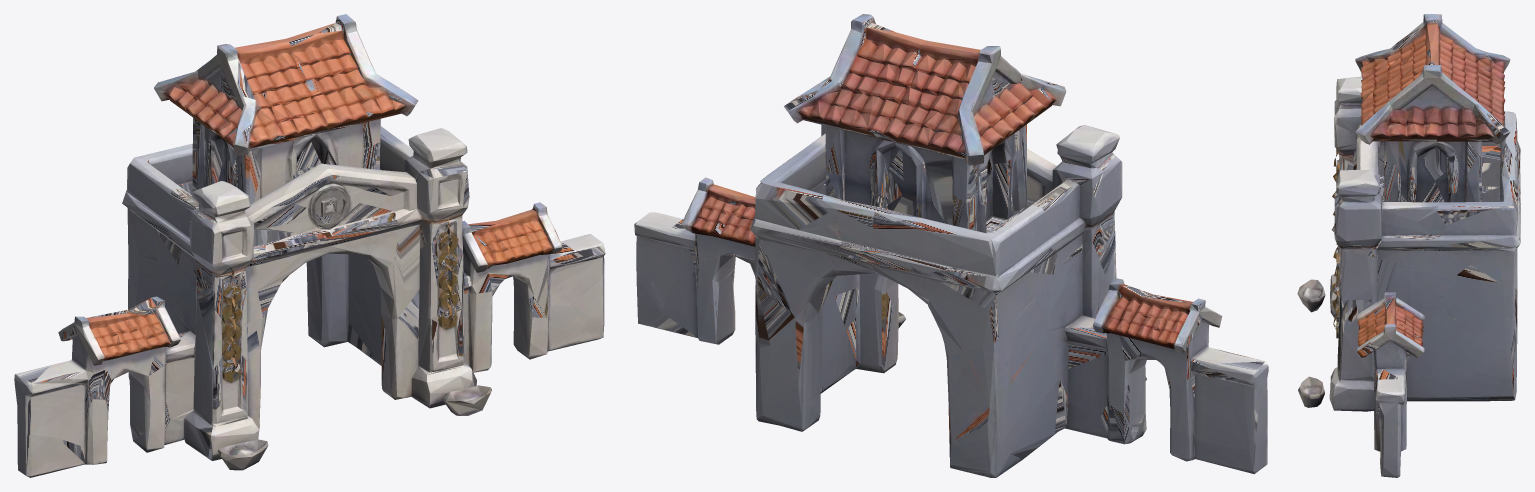
Rendered from cong-lang-bac-xa.48552f88.glb.
3 views of the same model, side by side, from view 1: azimuth 30°, elevation 25°; view 2: azimuth 150°, elevation 25°; view 3: azimuth 270°, elevation 25° (orthographic). The views are drawn at different scales.
Parts seen in each view (by area): view 1: tripo_node_dccabd12-5fb9-401d-8ad4-54225830297c; view 2: tripo_node_dccabd12-5fb9-401d-8ad4-54225830297c; view 3: tripo_node_dccabd12-5fb9-401d-8ad4-54225830297c.
Boxes of the visible parts, x1,y1,x2,y2 form: tripo_node_dccabd12-5fb9-401d-8ad4-54225830297c: (14, 14, 605, 477); tripo_node_dccabd12-5fb9-401d-8ad4-54225830297c: (634, 14, 1268, 477); tripo_node_dccabd12-5fb9-401d-8ad4-54225830297c: (1297, 14, 1520, 477).
Bounding box in the file's own units: 0.979 × 0.5762 × 0.3706.
Materials: 1 (1 with a texture image).
